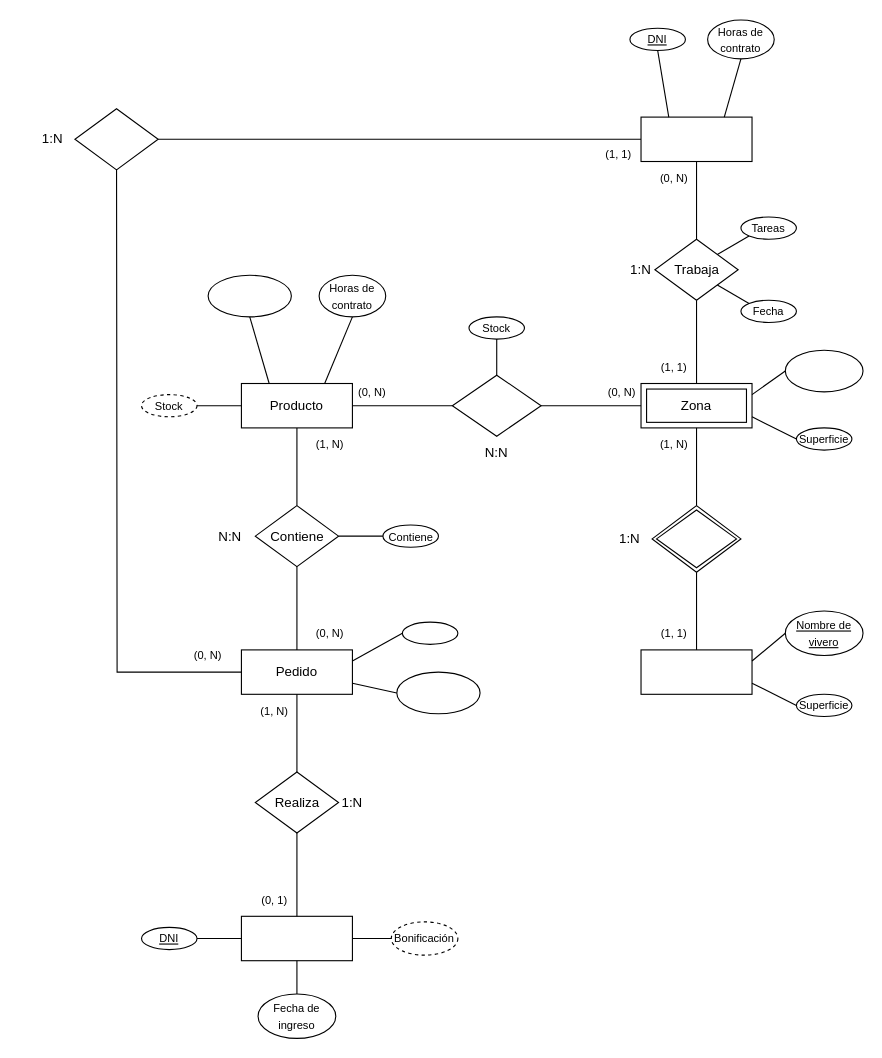
This 882x1058 diagram has some shape labels left out. The shapes that lost their labels are listed below. From the top down, each one's centre as x and y in pixels, then its label:
At (x=116, y=139): "Registra".
At (x=696, y=139): "Empleado".
At (x=249, y=295): "Código de producto".
At (x=823, y=370): "Nombre de zona".
At (x=496, y=405): "Tiene".
At (x=696, y=538): "Pertenece".
At (x=429, y=632): "Importe".
At (x=696, y=671): "Vivero".
At (x=438, y=692): "Código de pedido".
At (x=296, y=938): "Cliente tajinaste".
